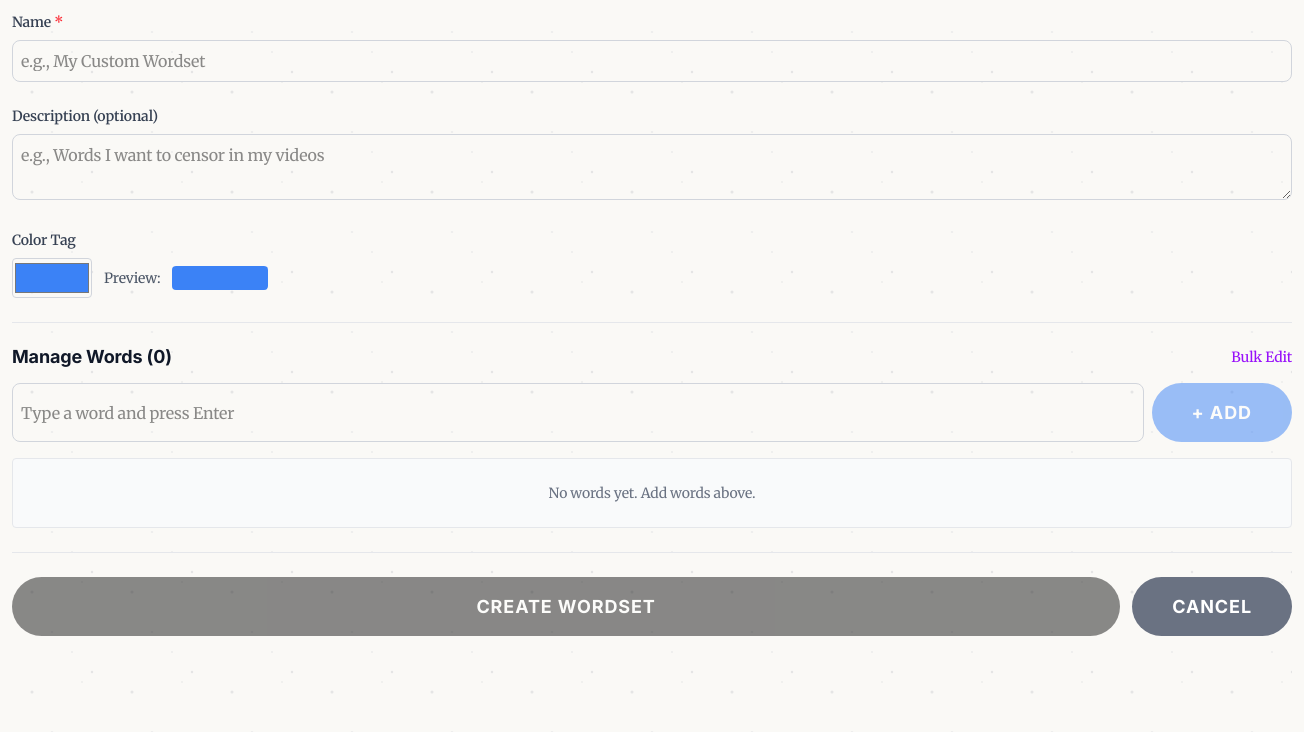
Test case: WordsetEditor › button states › enables save button when name and words are valid
In the field with test id "wordset-name-input": (652, 61) [12,40,1292,82], type "Test"
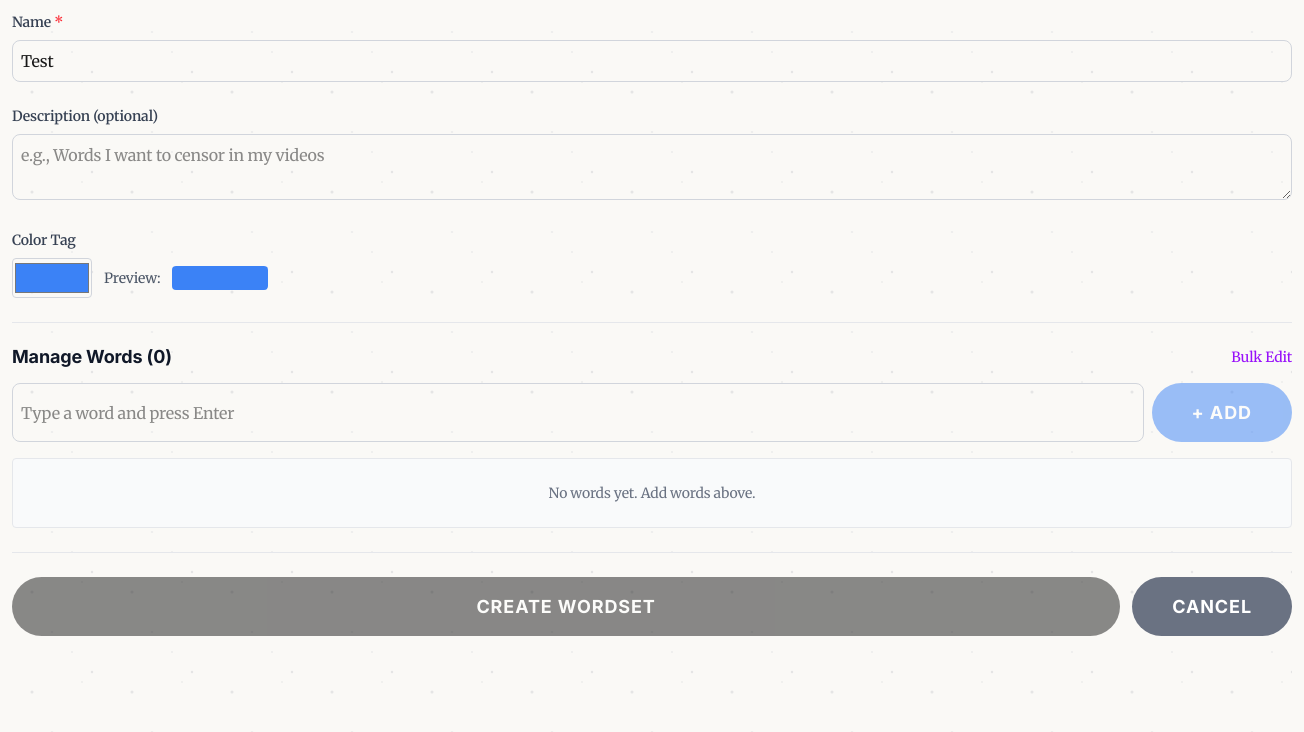
In the field with test id "new-word-input": (578, 412) [12,383,1144,442], type "word1"
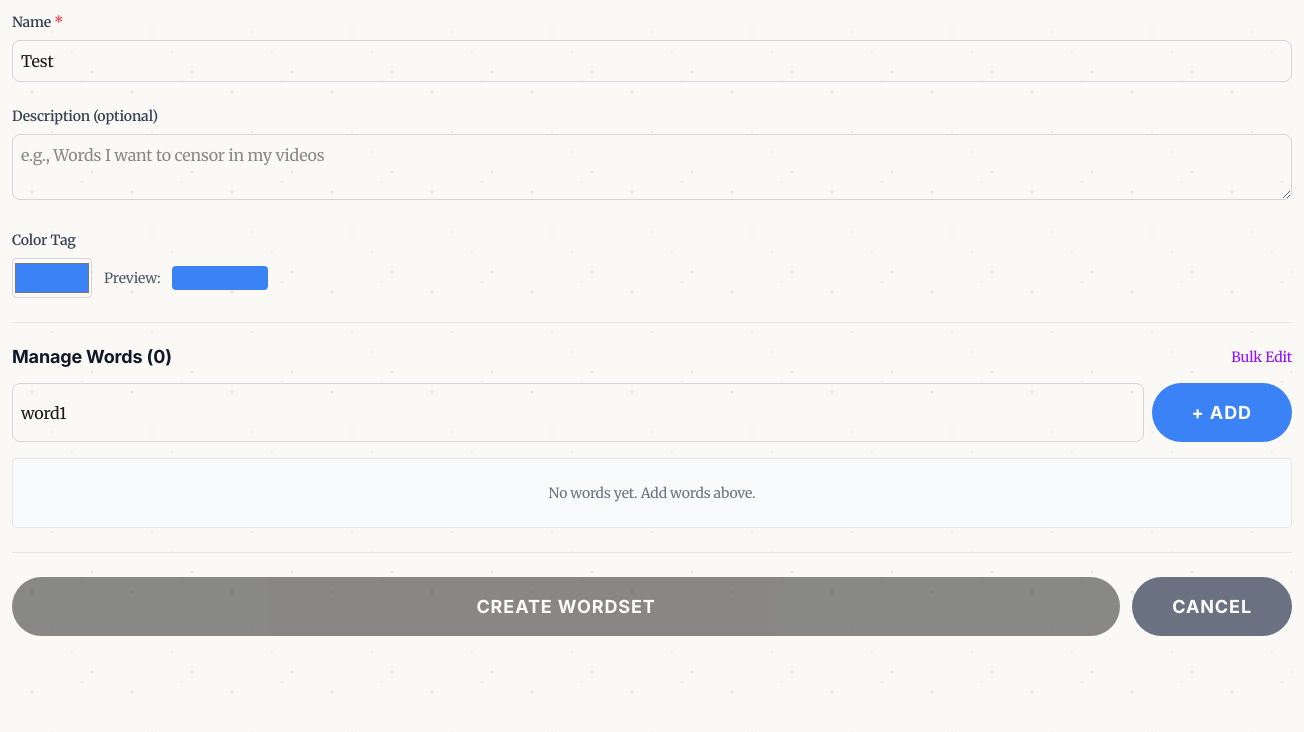
Click the button with test id "add-word-button": click(1222, 412) [1152,383,1292,442]
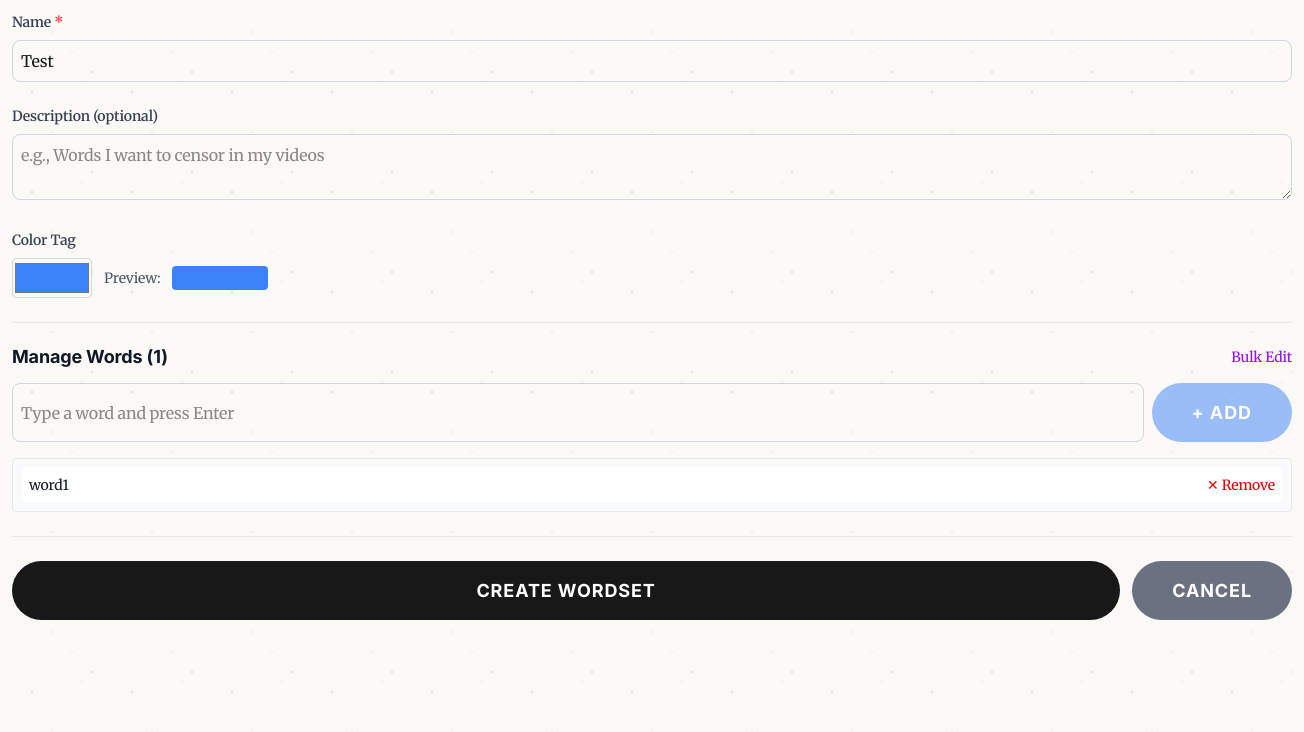
Now the button with test id "save-wordset-button" is enabled, box [12,561,1120,620]
